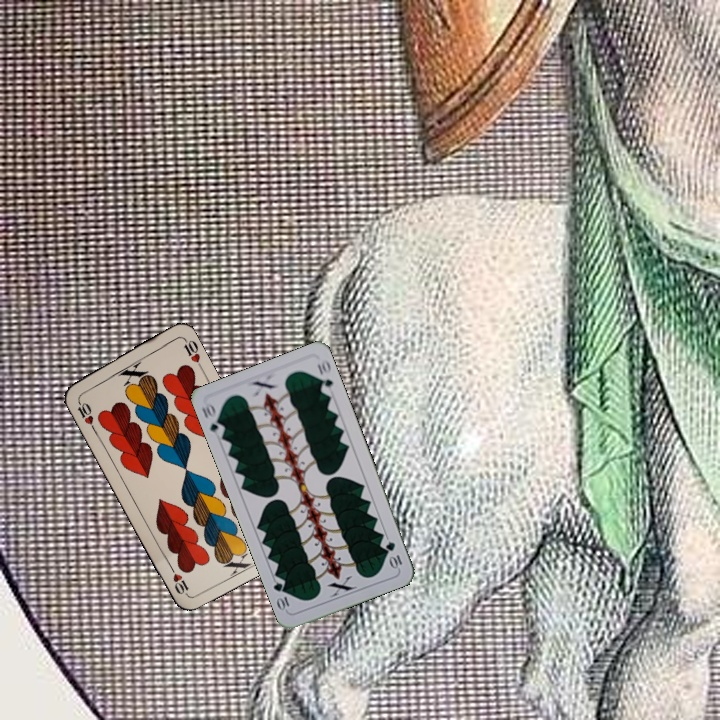G10: (197, 399, 227, 440), (382, 538, 405, 572)
H10: (73, 394, 97, 432)
